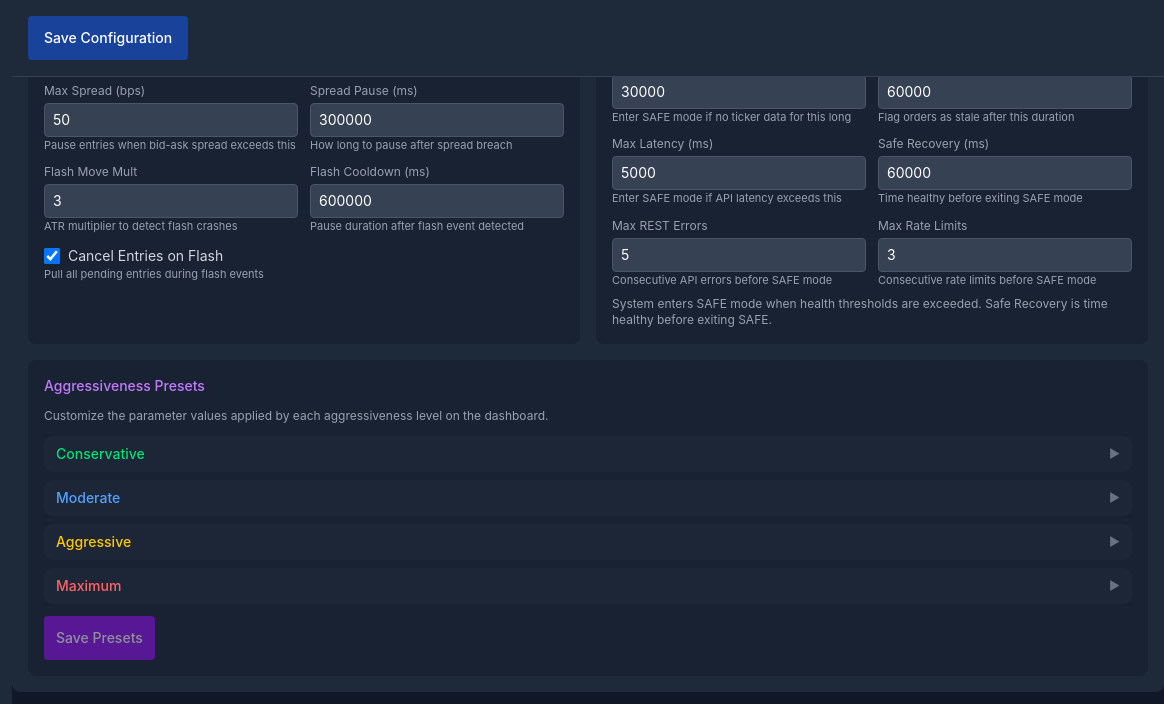
Test: ConfigEditor preset save lifecycle › preserves a rejected draft, leaves it dirty, and allows retry after pending ends
The width and height of the screenshot is (1164, 704).
(page scrolled)
Click the button "Conservative ▶" at coordinates (100, 453), box [44, 436, 1132, 472]
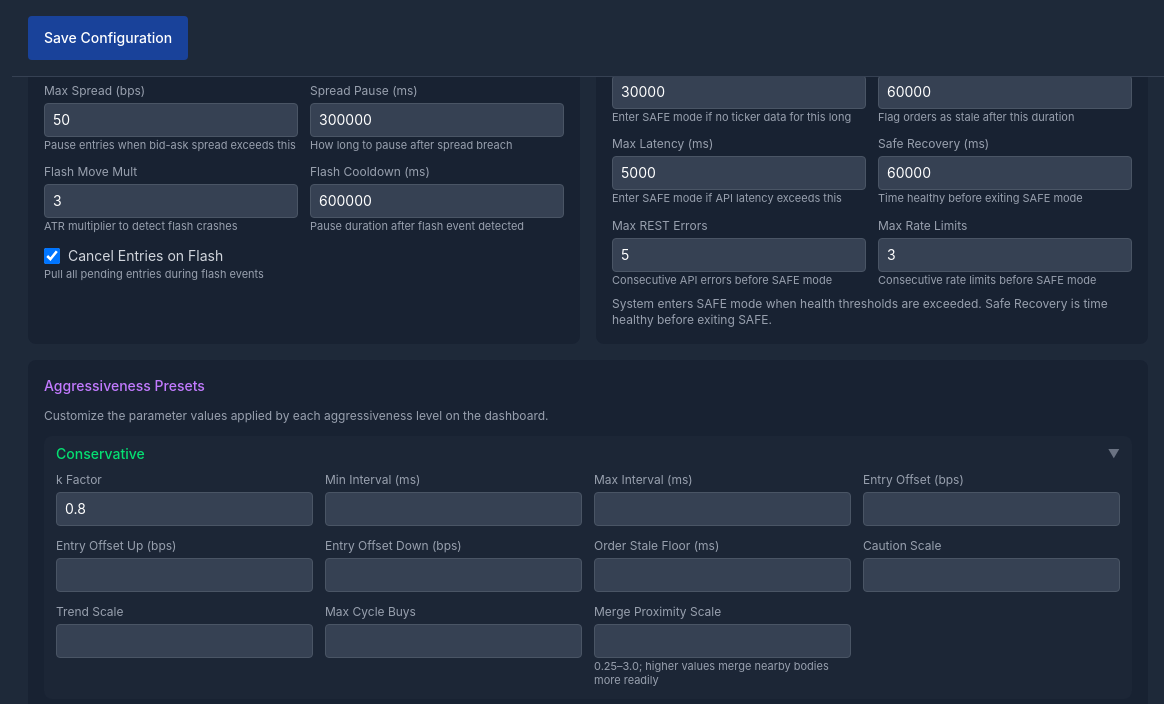
Replace the text in the field labelled "k Factor" with "1.1" at coordinates (184, 509), box [56, 492, 313, 526]
(page scrolled)
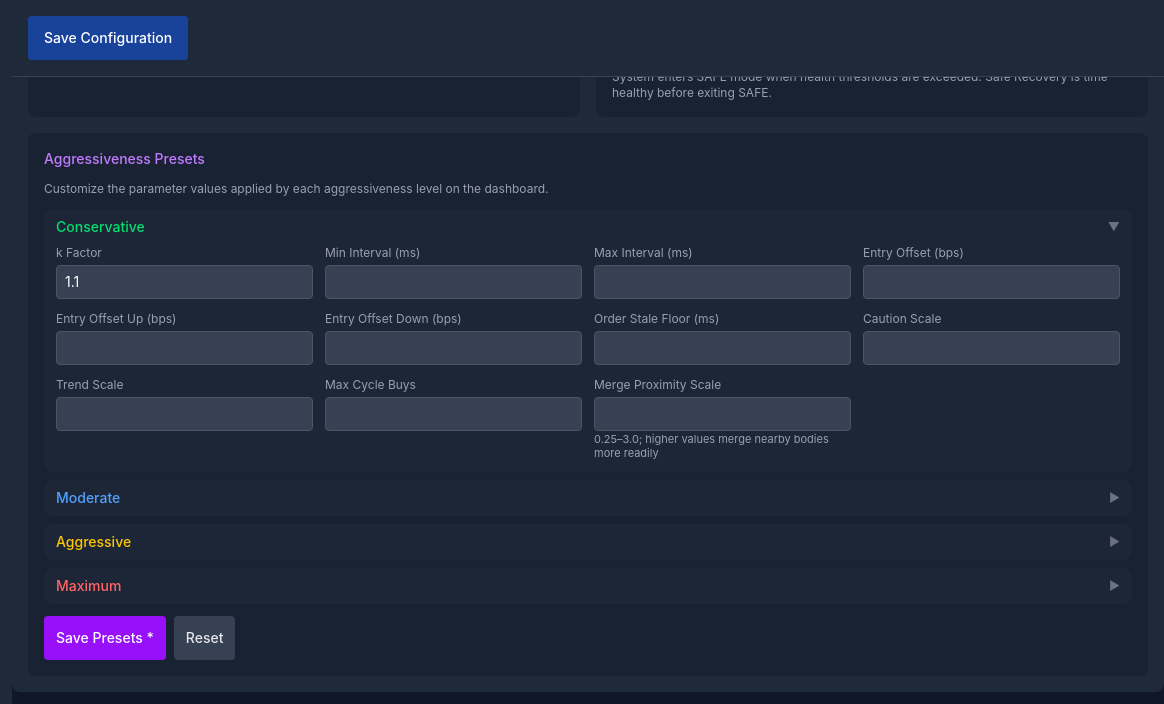
Click the button "Save Presets *" at coordinates (105, 638), box [44, 616, 166, 660]
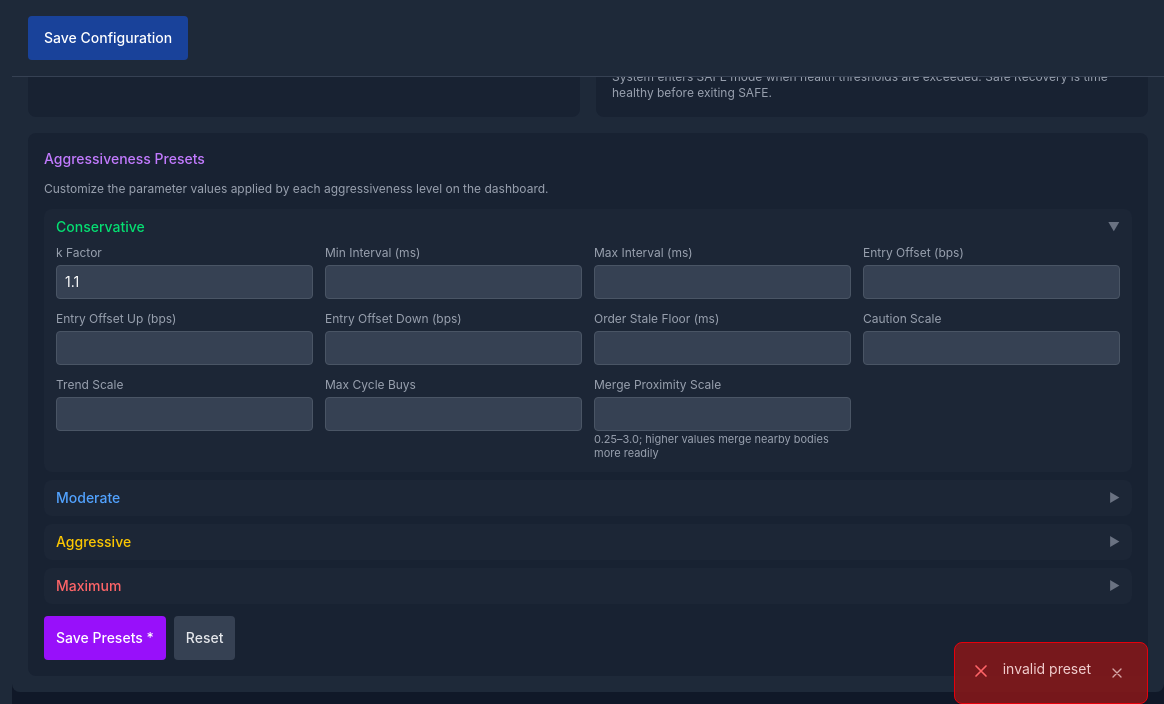
Expected: the button "Save Presets *" is enabled
Expected: the text "invalid preset" is shown, [1003, 659, 1091, 679]
Click the button "Save Presets *" at coordinates (105, 638), box [44, 616, 166, 660]
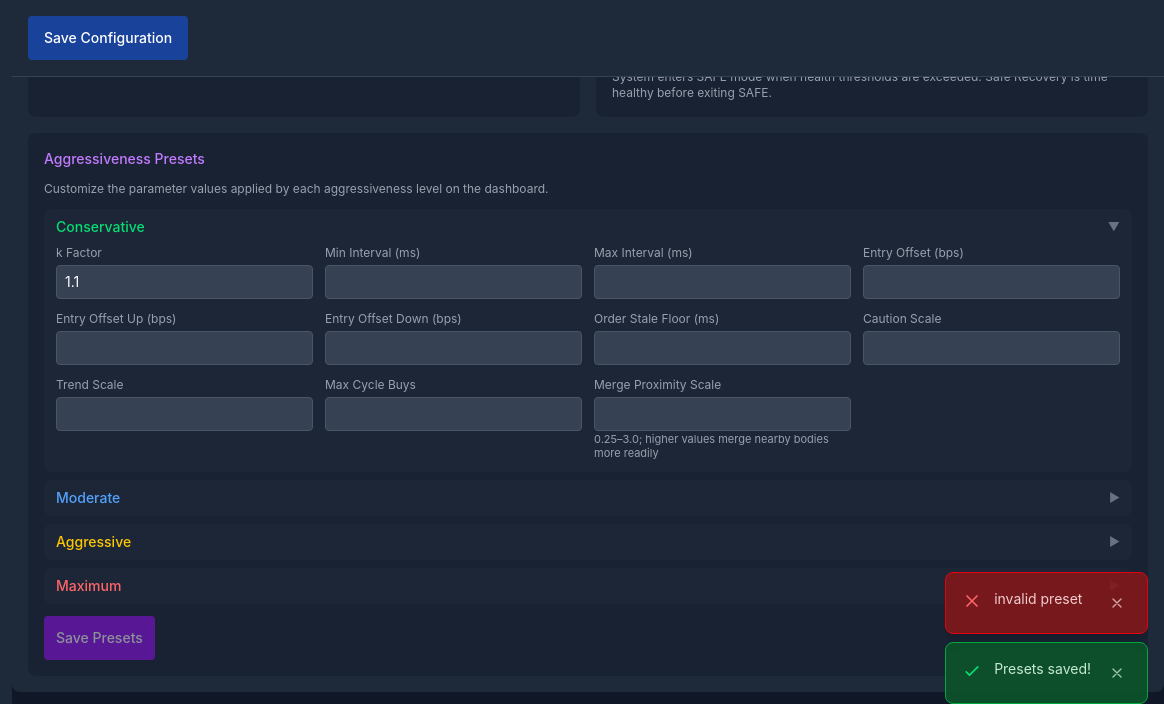
Expected: the button "Save Presets" is disabled, [44, 616, 155, 660]
